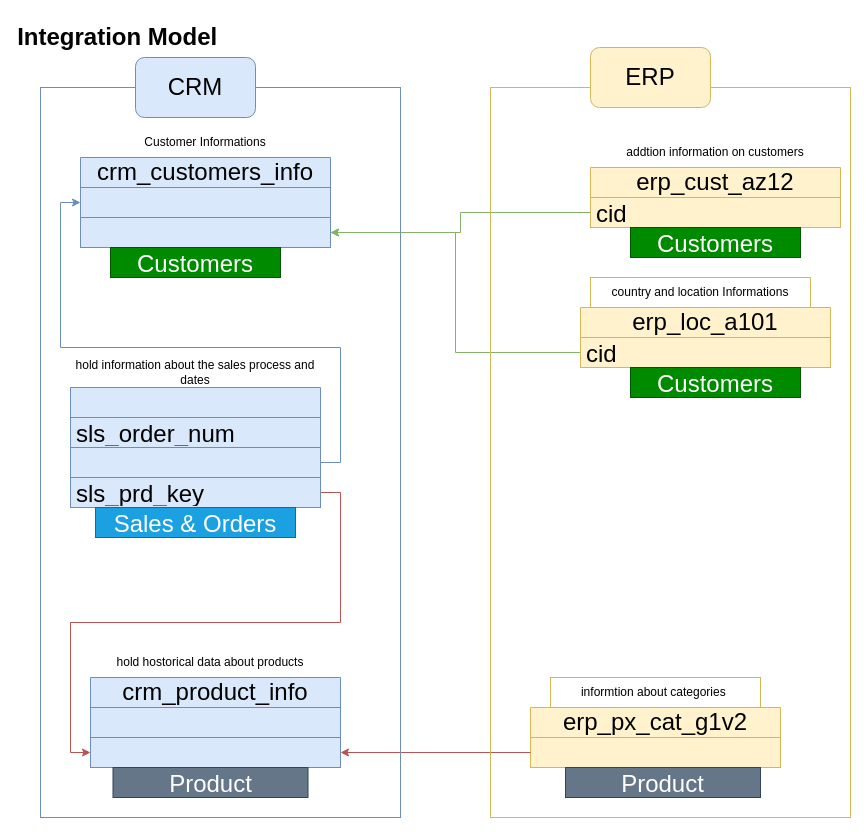
Some shapes in this 868 by 835 pixel diagram are drawn without their labels. The shapes that lost their labels are listed below. From the top down, each one's box as (x1, y1, x2, y2) in pixels, then its label:
(80, 186, 330, 218): cst_id
(80, 216, 330, 248): cst_key
(70, 386, 320, 448): crm_sales_details
(70, 446, 320, 478): sls_cust_id
(90, 706, 340, 738): prd_id
(90, 736, 340, 768): prd_key
(530, 736, 780, 768): id
